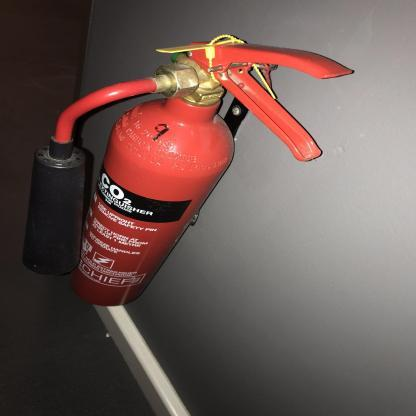Fire Extinguisher: (6, 33, 369, 342)
